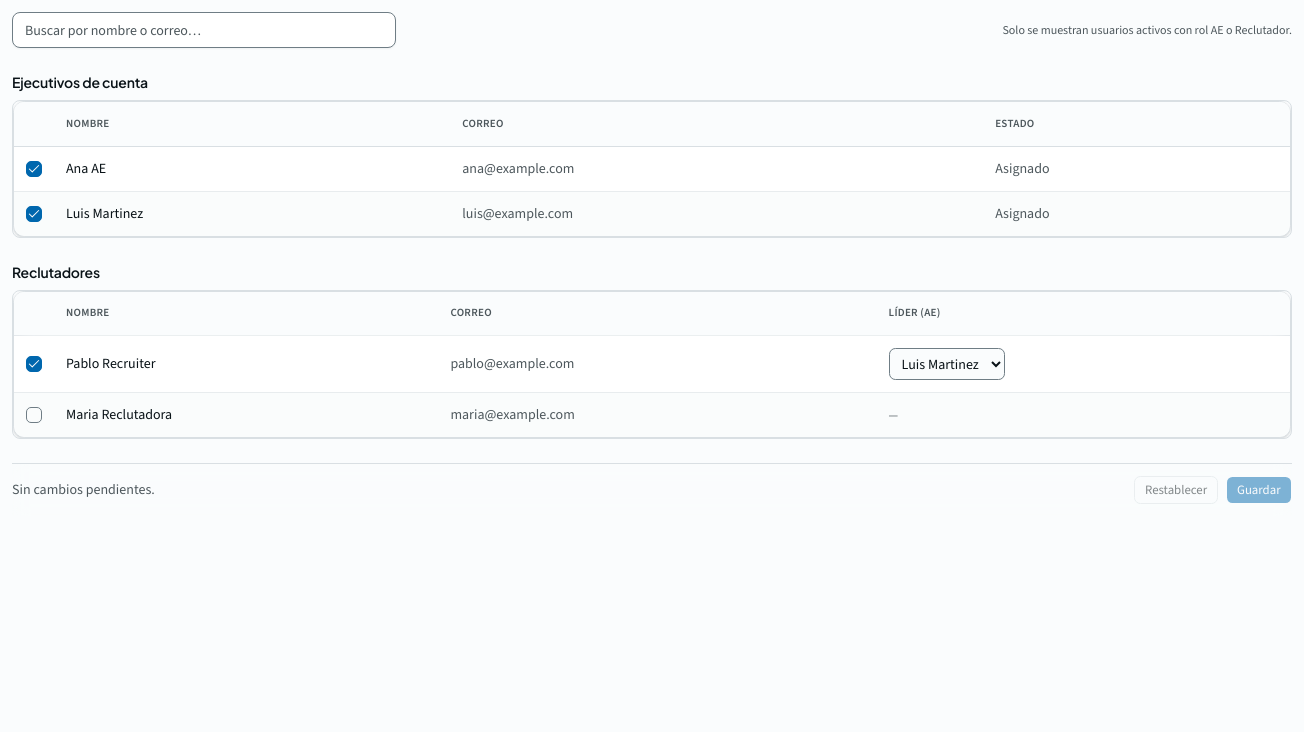
Test case: AssignmentTable (US5 polimórfica) › invalida el líder del reclutador cuando se desmarca el AE correspondiente
Expected: the row with test id "recruiter-row-rec-1" is shown, [14, 336, 1290, 392]
Expected: the dropdown named "Líder (AE) de Pablo Recruiter" shows "Luis Martinez", [889, 348, 1005, 380]
Click the checkbox named "Asignar a Luis Martinez". click: point(34, 214)
box: [26, 206, 42, 222]
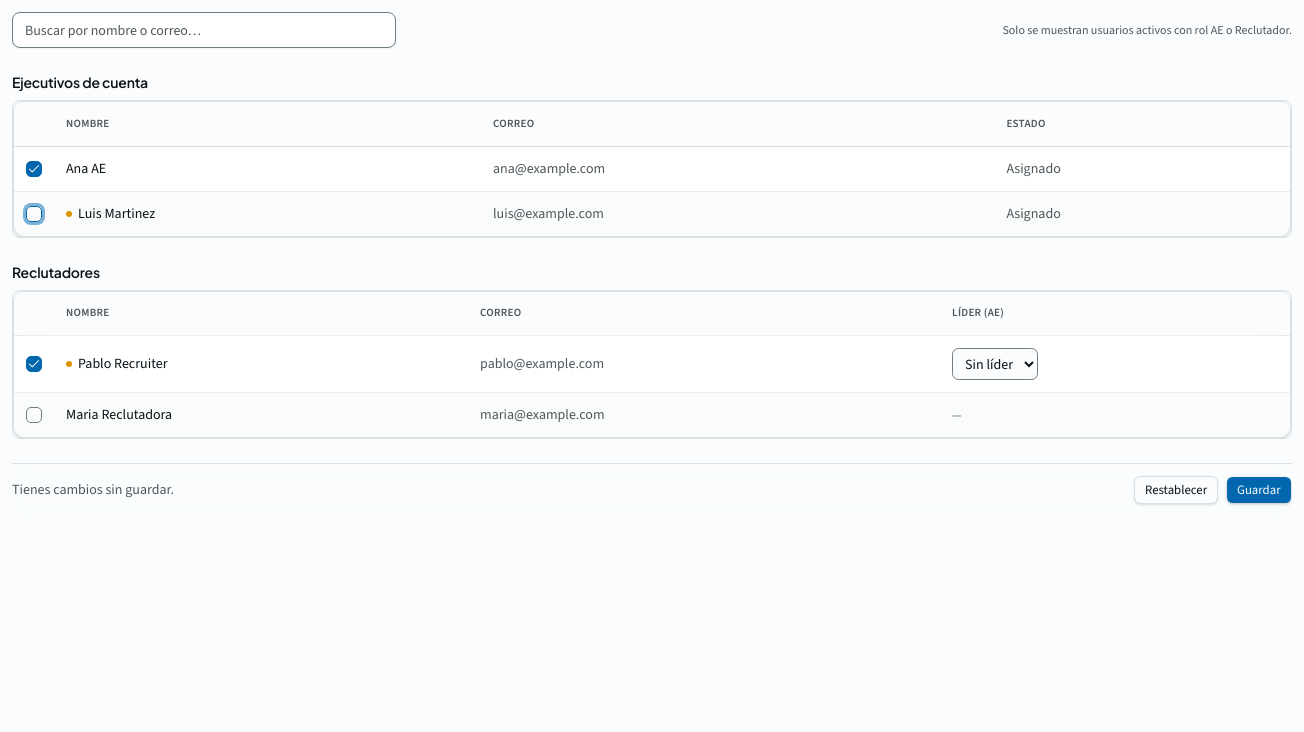
Now the dropdown named "Líder (AE) de Pablo Recruiter" shows "Sin líder", box [952, 348, 1038, 380]
